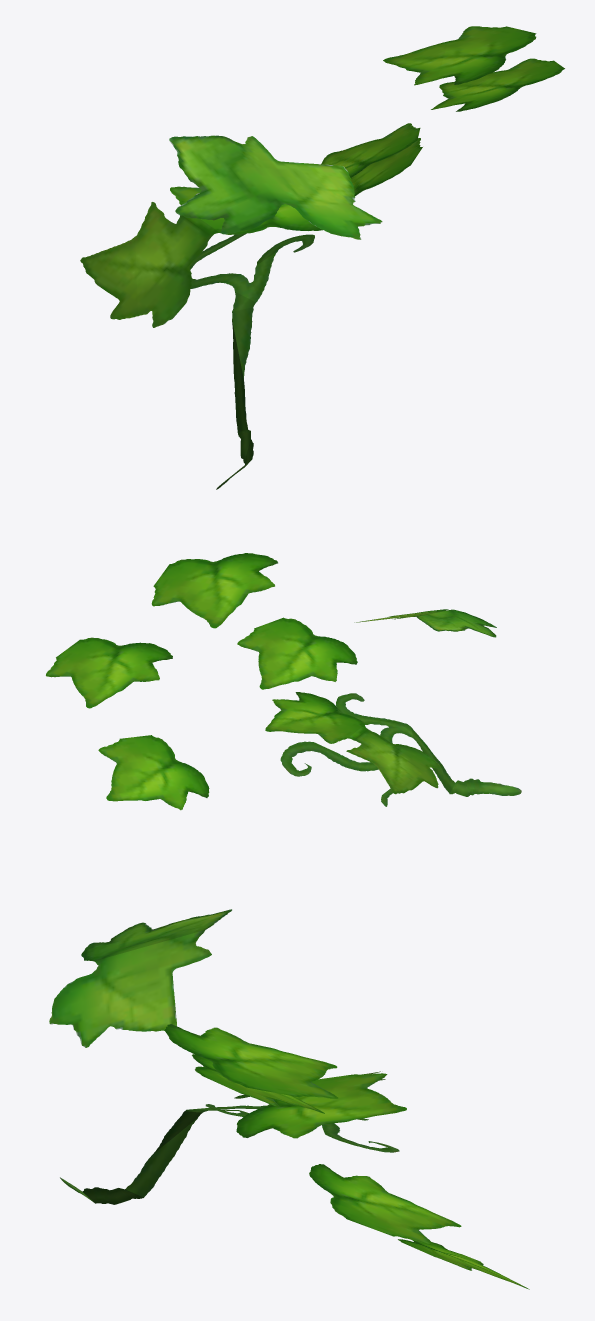
Rendered from caodi_tengman_01.fbx.
The picture shows the model from 3 angles, top to bottom: view 1: azimuth 30°, elevation 25°; view 2: azimuth 150°, elevation 25°; view 3: azimuth 270°, elevation 25°; orthographic projection. The views are drawn at different scales.
Parts seen in each view (by area): view 1: caodi_tengman_01; view 2: caodi_tengman_01; view 3: caodi_tengman_01.
Boxes of the visible parts, box(x1,y1,x2,y2) form: caodi_tengman_01: box(80, 26, 564, 489); caodi_tengman_01: box(46, 553, 521, 810); caodi_tengman_01: box(49, 909, 529, 1289).
Size of the model in its own units: 1.65 by 0.8476 by 1.34.
